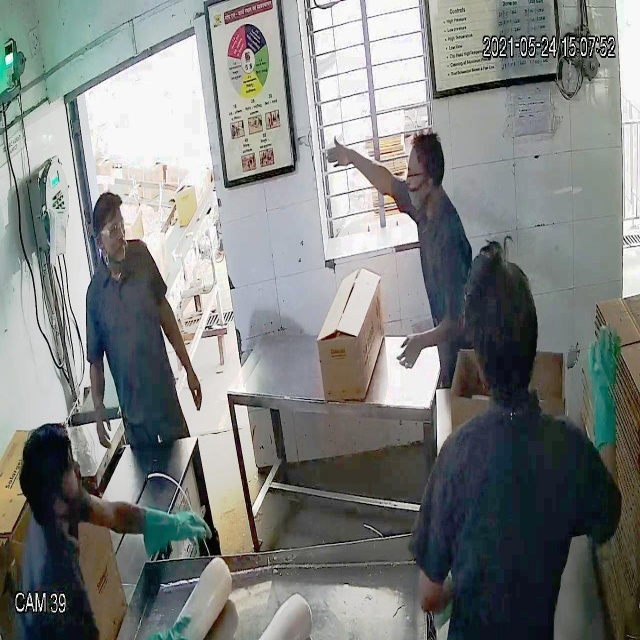Gafas: (93, 216, 129, 244), (403, 163, 439, 190)
